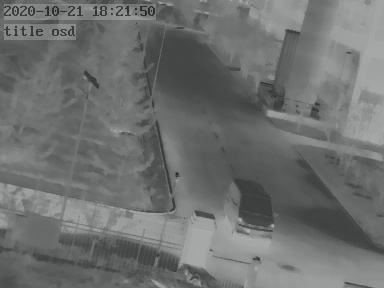vehicle: (218, 177, 286, 244)
